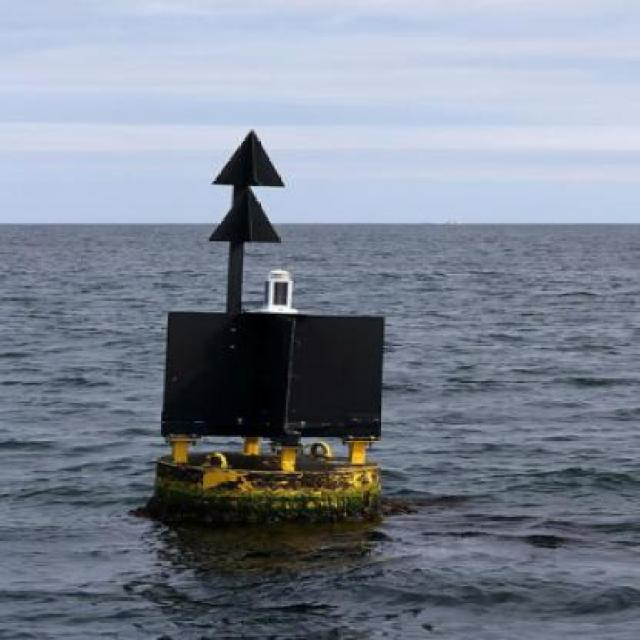buoy: (127, 122, 398, 520)
